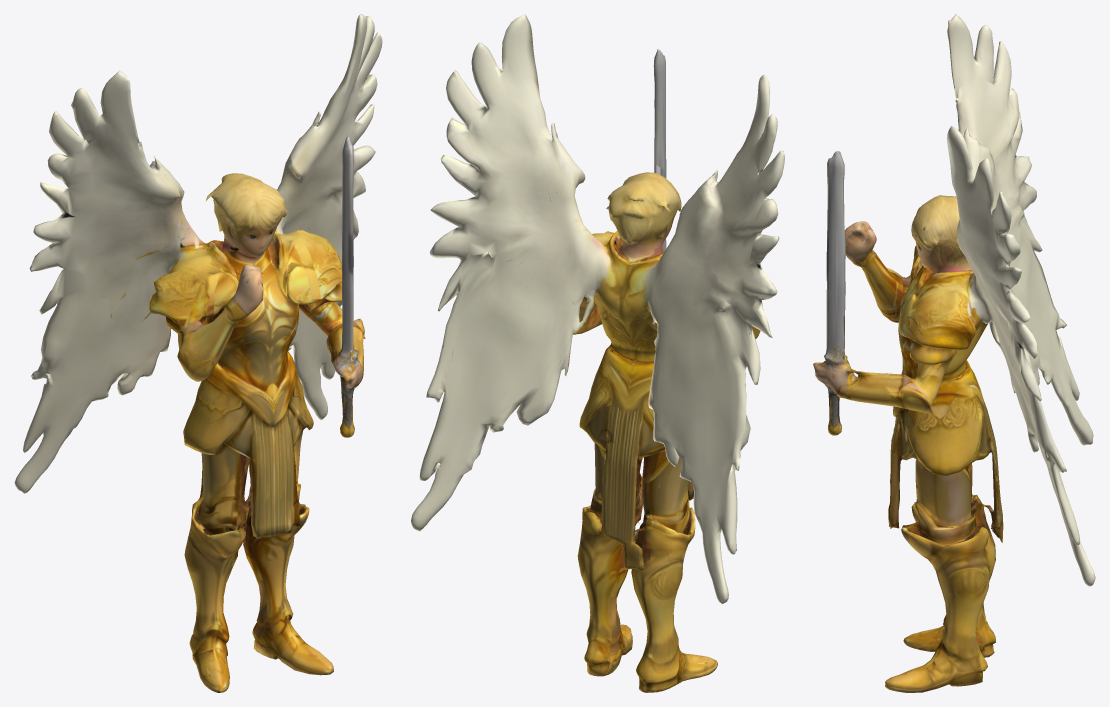
The model's file is angel.glb.
The picture shows the model from 3 angles, left to right: view 1: azimuth 30°, elevation 25°; view 2: azimuth 150°, elevation 25°; view 3: azimuth 270°, elevation 25°; orthographic projection. The views are drawn at different scales.
Parts seen in each view (by area): view 1: Mesh1_Material.001_0; view 2: Mesh1_Material.001_0; view 3: Mesh1_Material.001_0.
Boxes of the visible parts, x1,y1,x2,y2 form: Mesh1_Material.001_0: [14, 14, 382, 692]; Mesh1_Material.001_0: [411, 14, 784, 692]; Mesh1_Material.001_0: [813, 14, 1095, 692].
Size of the model in its own units: 1.14 by 1.99 by 0.8571.
1 material, 1 textured.
